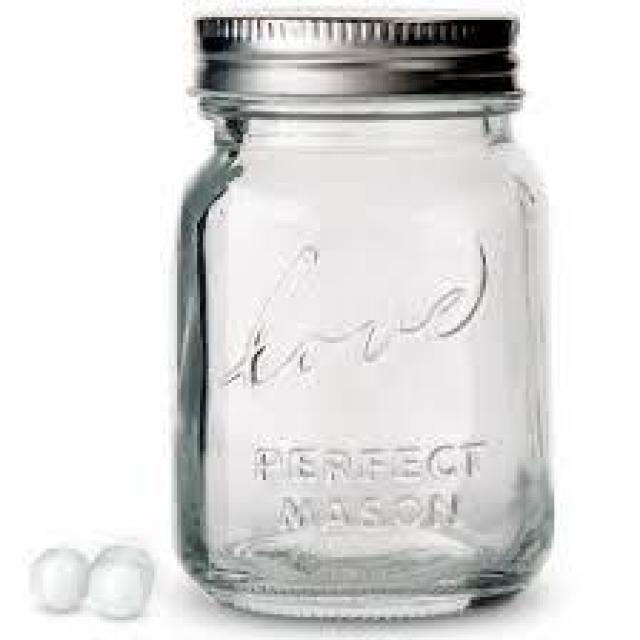non-organic waste: (169, 11, 560, 623)
